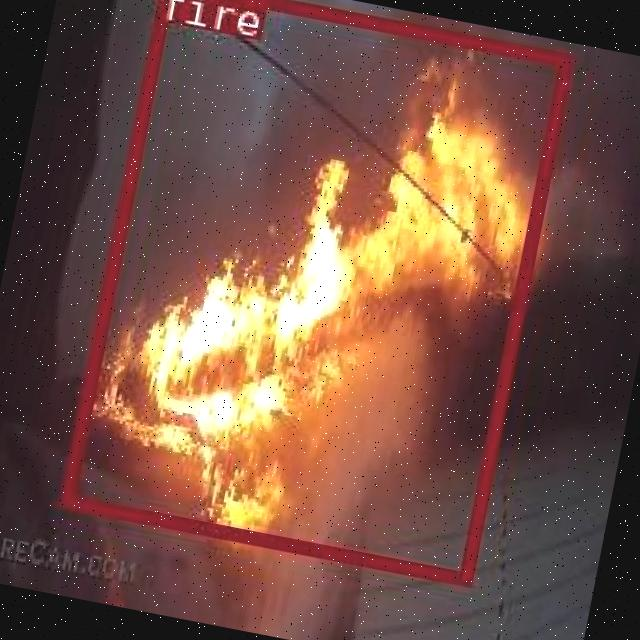fire: (59, 0, 571, 582)
